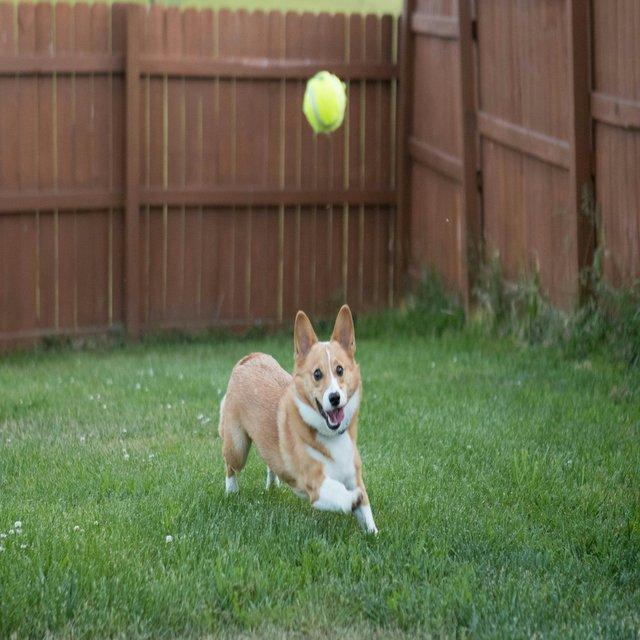corgi: (217, 303, 378, 536)
